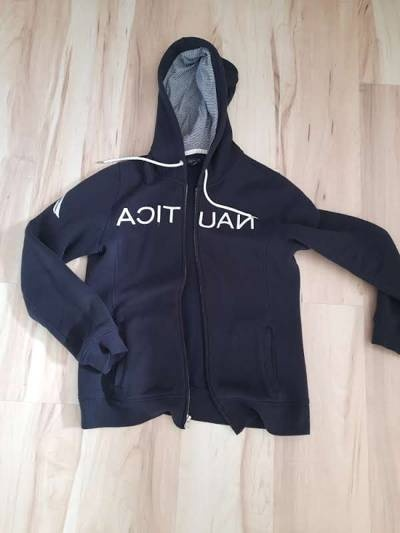Hoodie: (26, 40, 397, 410)
